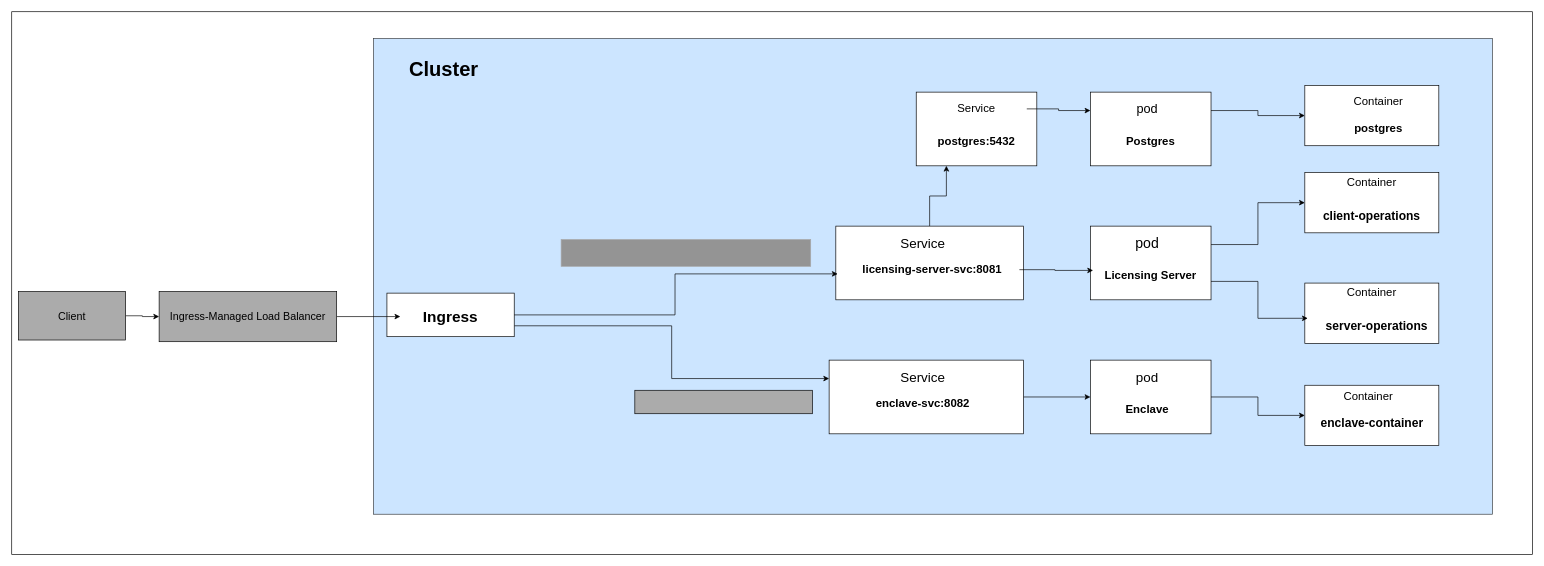
The diagram is 1544 pixels wide and 566 high, and some of its shapes have lost their labels. Here are the shapes that lost their labels. From the top down, the box of each, then its label:
(560, 239, 811, 266): host: licensing-server-svc.default.svc
(634, 390, 812, 414): host: enclave.default.svc
